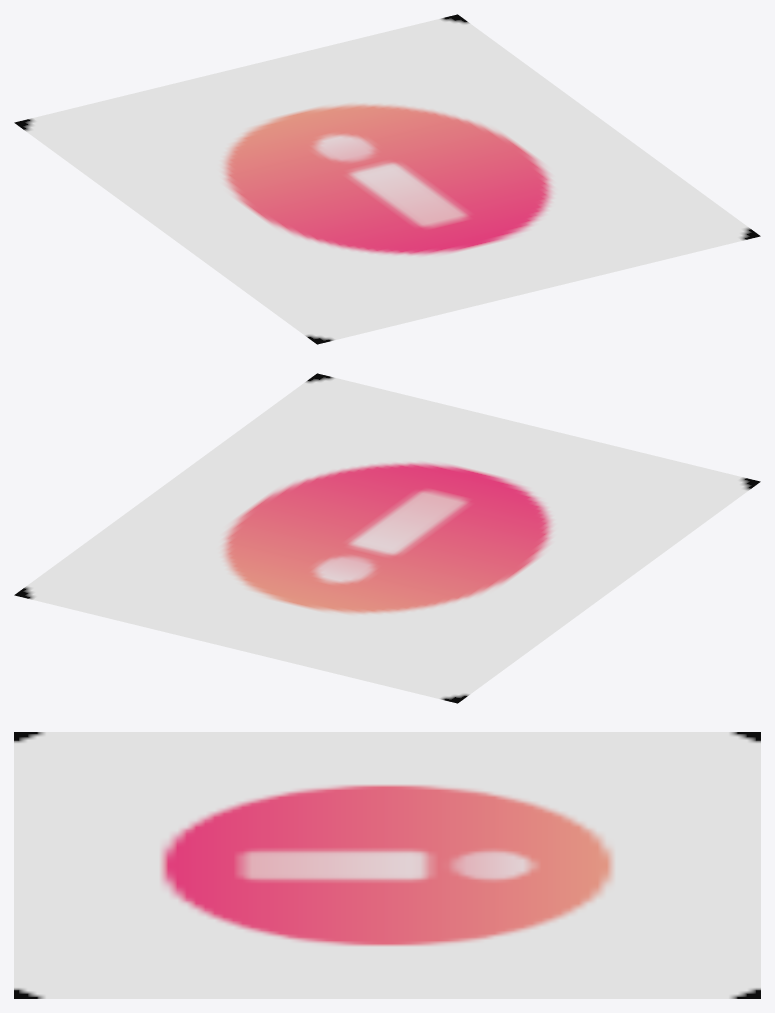
3 views of the same model, one above another, from view 1: azimuth 30°, elevation 25°; view 2: azimuth 150°, elevation 25°; view 3: azimuth 270°, elevation 25° (orthographic). The views are drawn at different scales.
Parts seen in each view (by area): view 1: Plane001; view 2: Plane001; view 3: Plane001.
Boxes of the visible parts, x1,y1,x2,y2 form: Plane001: [14, 14, 760, 344]; Plane001: [14, 373, 760, 703]; Plane001: [14, 732, 760, 998].
Size of the model in its own units: 0.9328 by 6.76e-17 by 1.1.
1 material, 1 textured.
